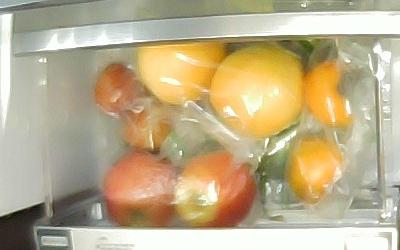apple_vinyl: (173, 150, 255, 228), (104, 151, 174, 228)
grapefruit_vinyl: (209, 47, 304, 137), (138, 41, 225, 105)
persimmon_vinyl: (287, 138, 344, 203), (303, 61, 354, 129)
prune_vinyl: (94, 63, 147, 113), (122, 98, 171, 151)
